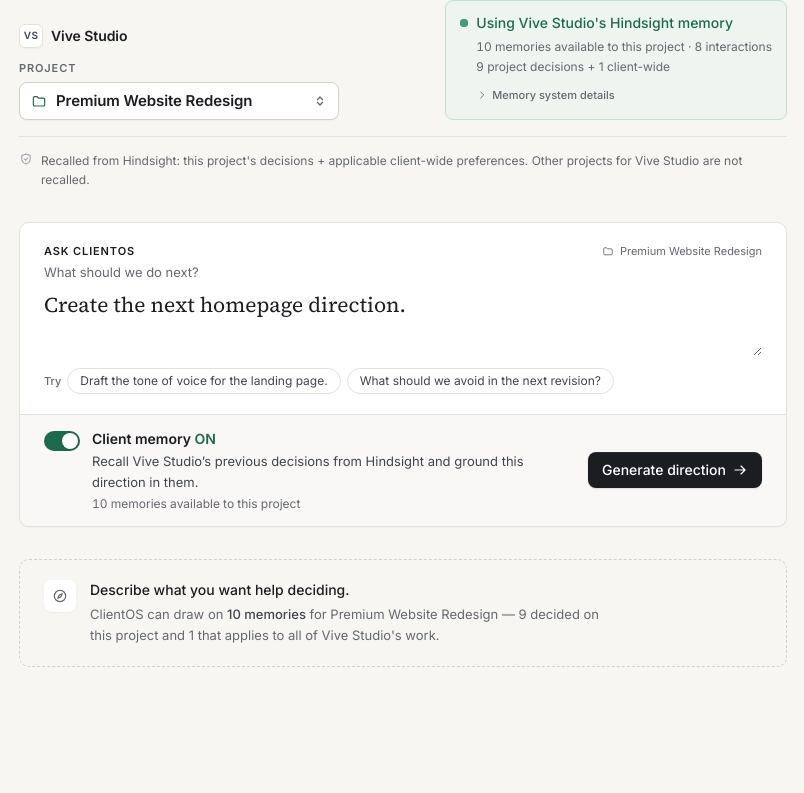
Test: AIWorkspace — generation uses the active project › a direction generated for one project is cleared when the project changes
The width and height of the screenshot is (804, 793).
Expected: the dropdown labelled "Project" is shown, [19,82,339,120]
Click the button "Generate direction": (675, 470) [588,452,762,488]
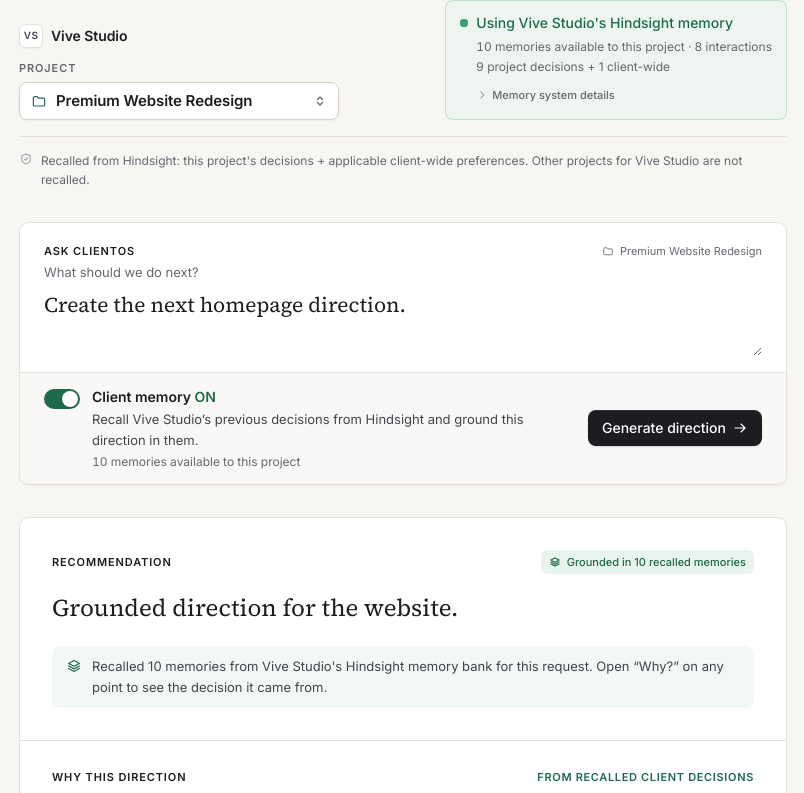
Now the text "Grounded direction for the website." is shown, box [52,590,458,624]
Select "Mobile App" in the dropdown labelled "Project": (179, 100) [19,82,339,120]
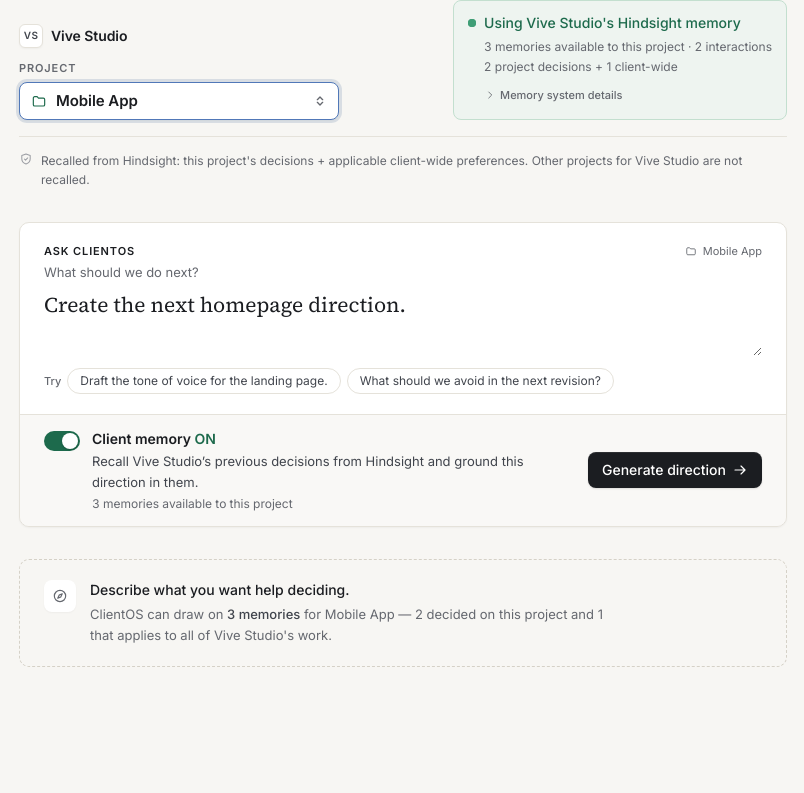
Now the text "Grounded direction for the website" is gone
